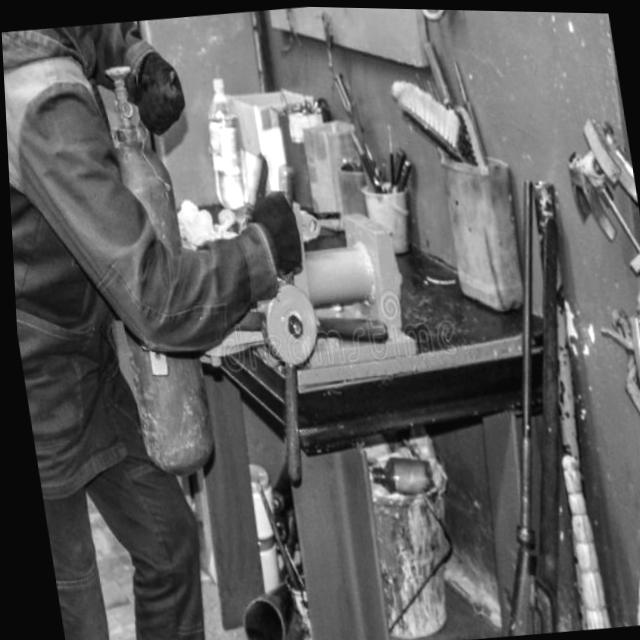FireExtinguisher: (70, 59, 226, 486)
